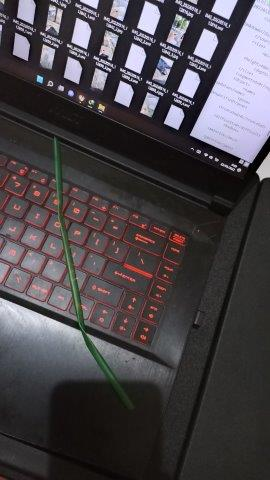sedotan: (53, 138, 135, 406)
